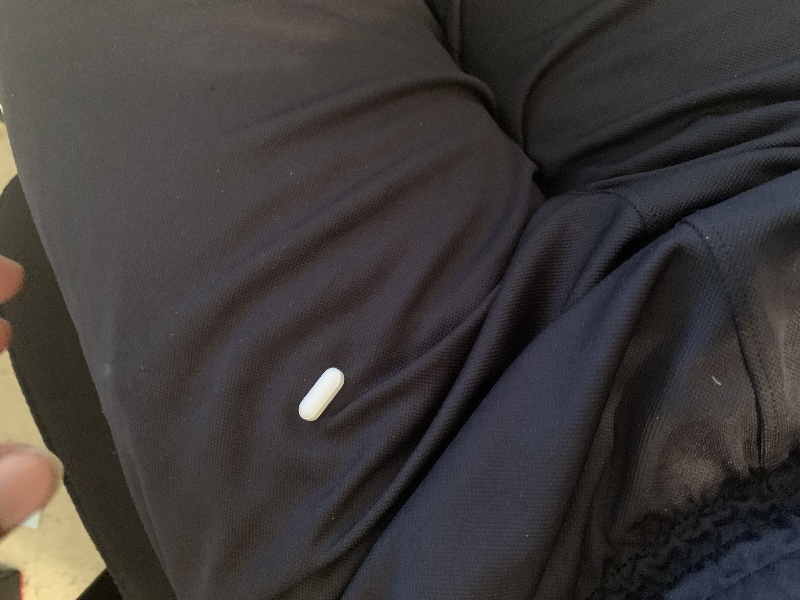Tylenol: (295, 363, 348, 425)
